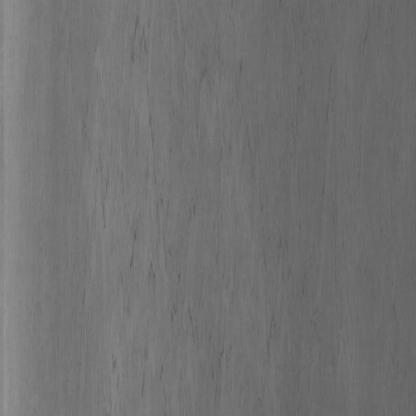silk_spot: (75, 7, 306, 392)
